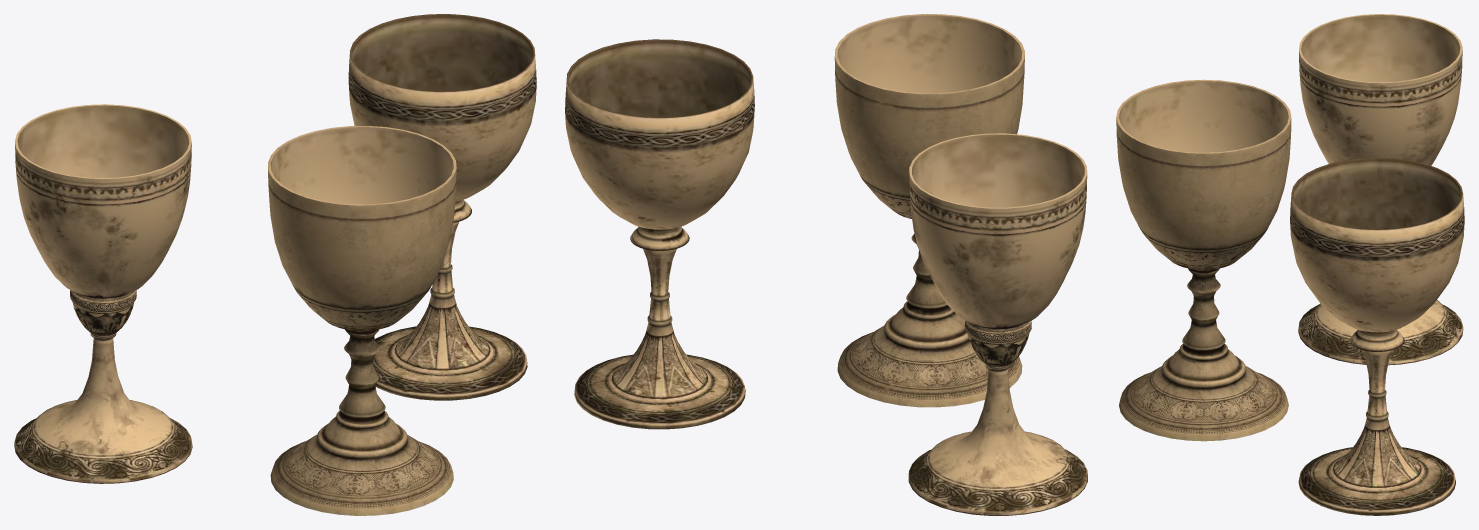
The model's file is brass_goblets.glb.
3 views of the same model, side by side, from view 1: azimuth 30°, elevation 25°; view 2: azimuth 150°, elevation 25°; view 3: azimuth 270°, elevation 25° (orthographic). The views are drawn at different scales.
Parts seen in each view (by area): view 1: brass_goblet_01, brass_goblet_02, brass_goblet_03; view 2: brass_goblet_02, brass_goblet_03, brass_goblet_01; view 3: brass_goblet_01, brass_goblet_03, brass_goblet_02.
Boxes of the visible parts, <box> form: brass_goblet_01: <box>268,126,456,515</box>; brass_goblet_02: <box>14,104,192,483</box>; brass_goblet_03: <box>348,14,536,400</box>; brass_goblet_02: <box>908,133,1087,515</box>; brass_goblet_03: <box>565,39,754,429</box>; brass_goblet_01: <box>834,14,1024,407</box>; brass_goblet_01: <box>1116,79,1291,441</box>; brass_goblet_03: <box>1290,157,1464,515</box>; brass_goblet_02: <box>1298,14,1463,365</box>.
Size of the model in its own units: 0.4534 by 0.2734 by 0.2976.
3 materials, 3 textured.
